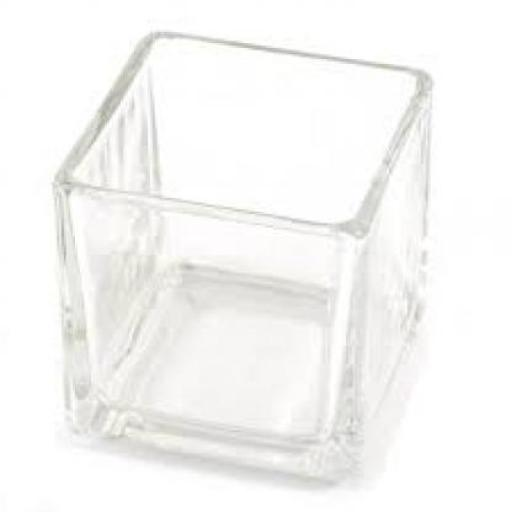glass: (50, 27, 430, 480)
